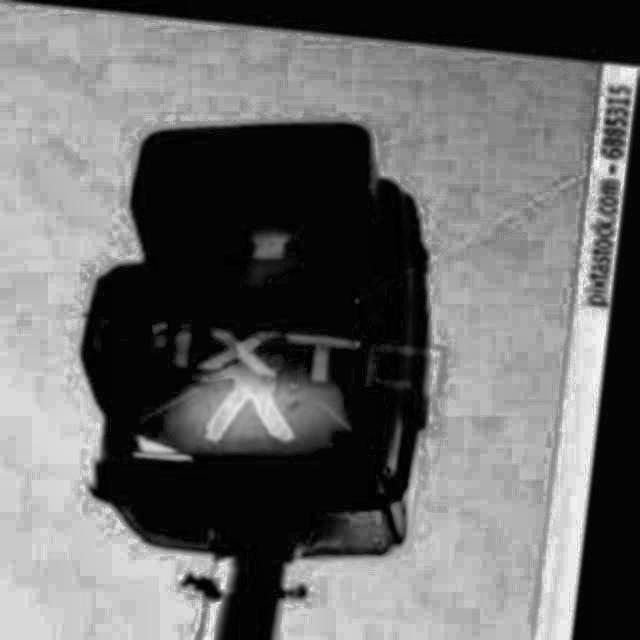semaforo pedestre: (21, 72, 482, 580)
